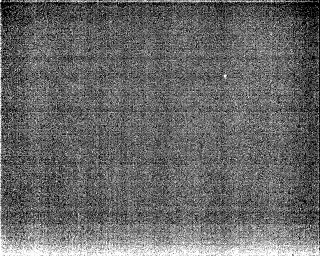BIRD: (221, 72, 229, 82)
